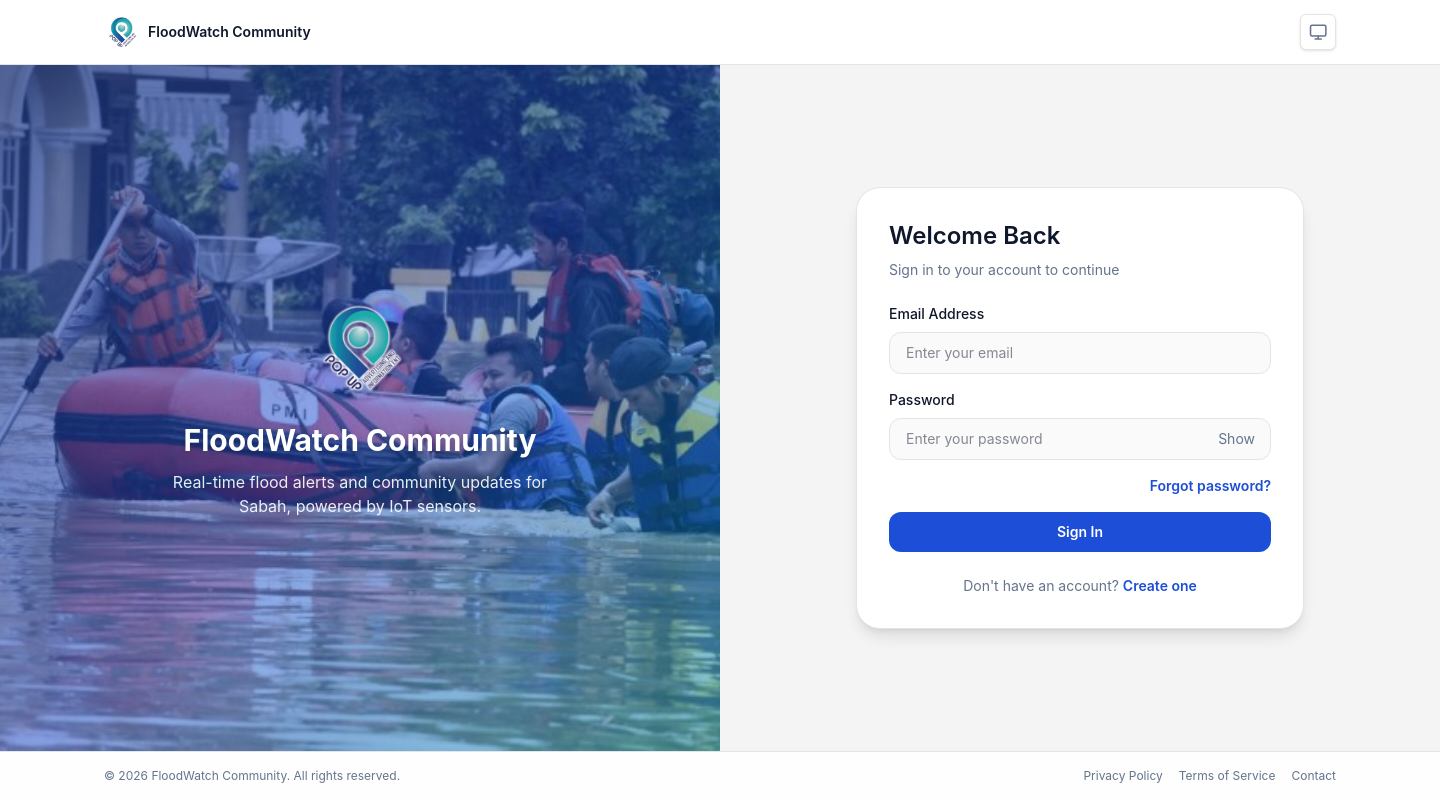
Scenario: Community · login › shows an error banner on invalid credentials
Type "user@example.com" into the field with id "email" at {"x": 1080, "y": 353}, box [889,332,1271,374]
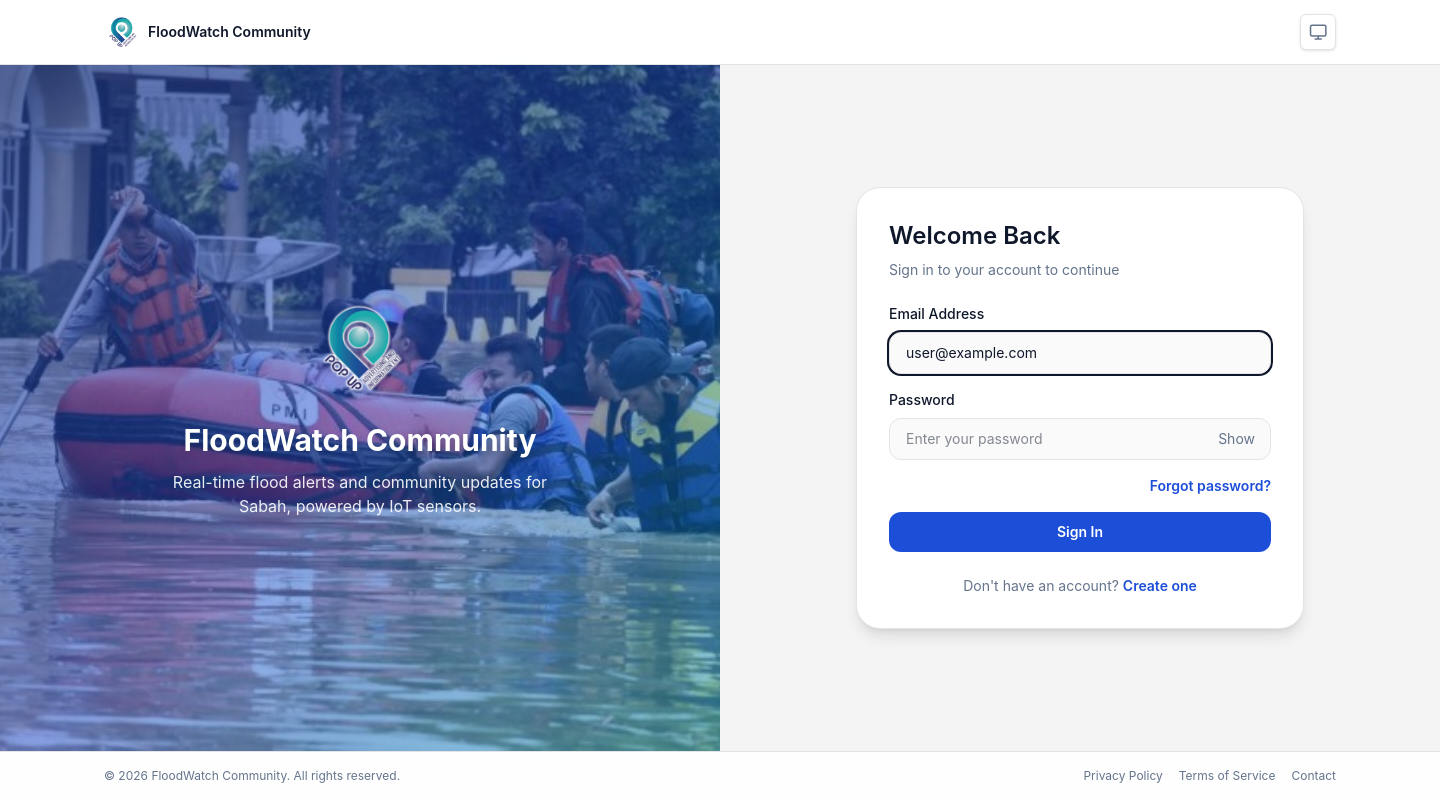
Type "wrongpass" into the password field labelled "Password" at {"x": 1080, "y": 439}, box [889,418,1271,460]
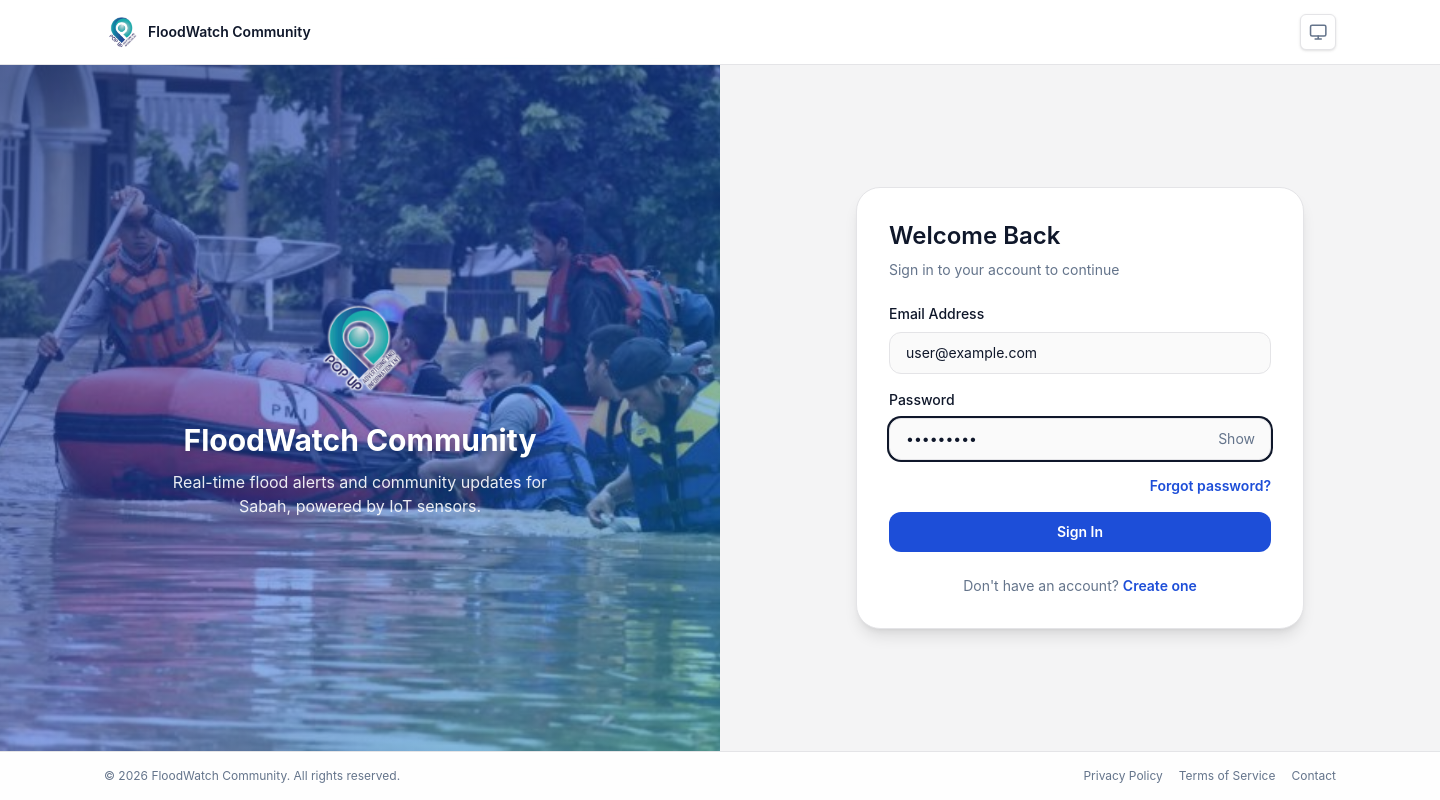
Click the button with test id "login-submit" at {"x": 1080, "y": 532}, box [889,512,1271,552]
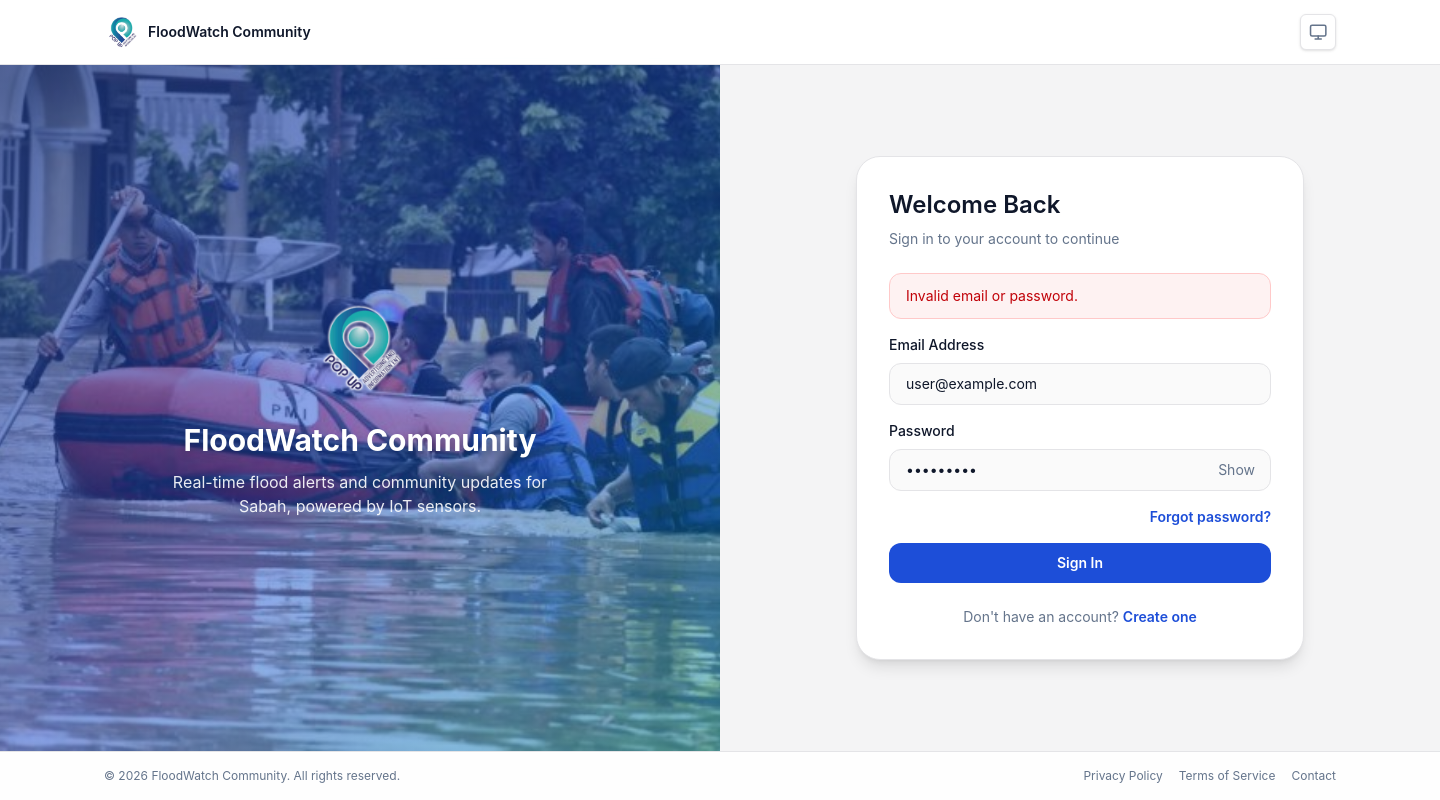
Now the text with test id "login-error" reads "Invalid email or password.", box [906,287,1078,304]
